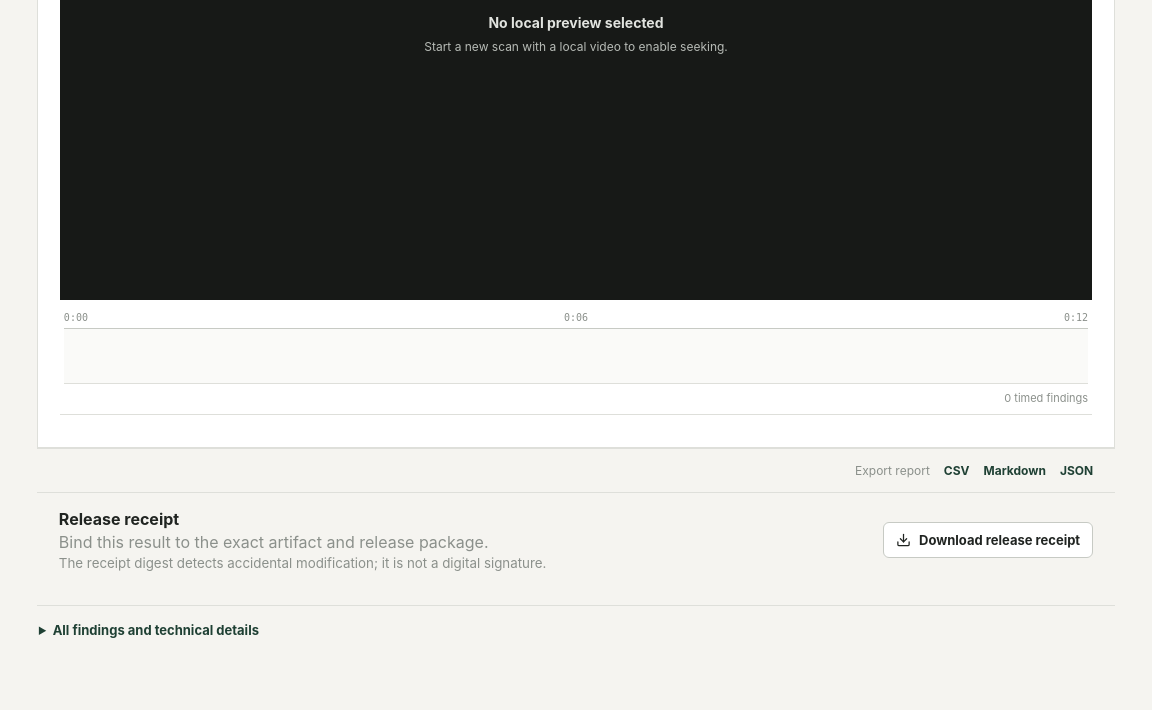
Scenario: ReleaseSeal frontend › downloads a backend-owned receipt for a clean Final Export
(page scrolled)
What coordinates should you click on to do the following:
click the button "Download release receipt"
I would click on:
 (988, 540)
Its box is 883,522 -> 1093,558.
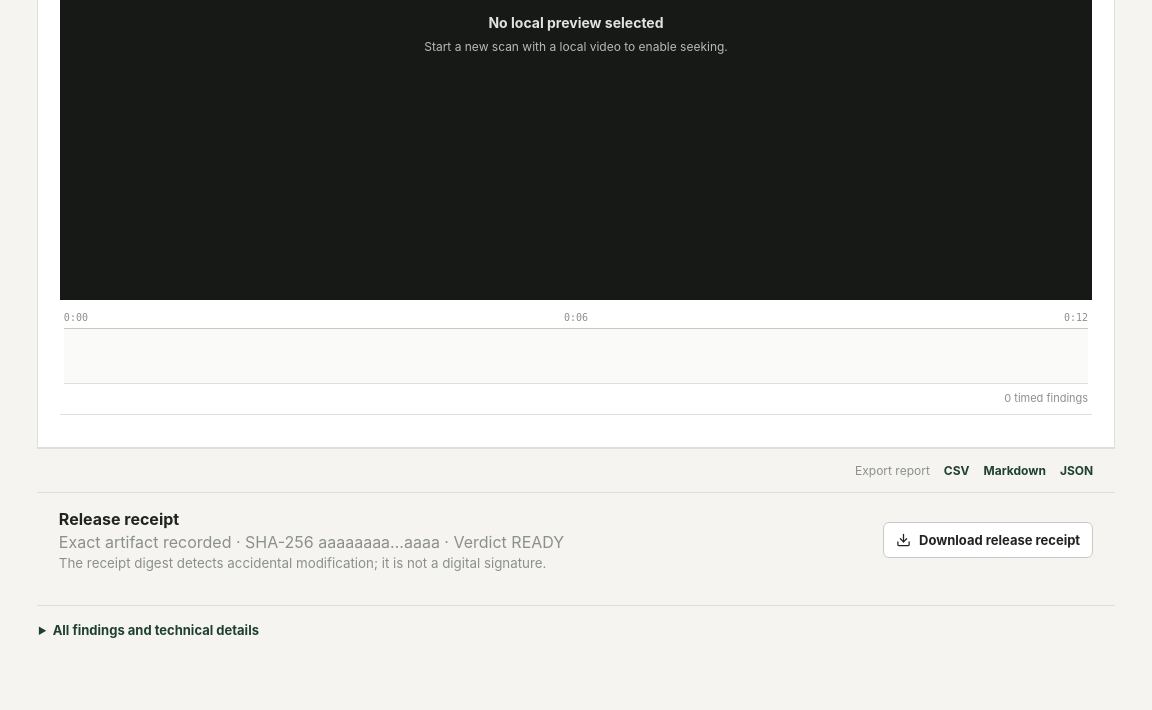
Result: the text "Exact artifact recorded" is shown at 59,532 -> 564,552
